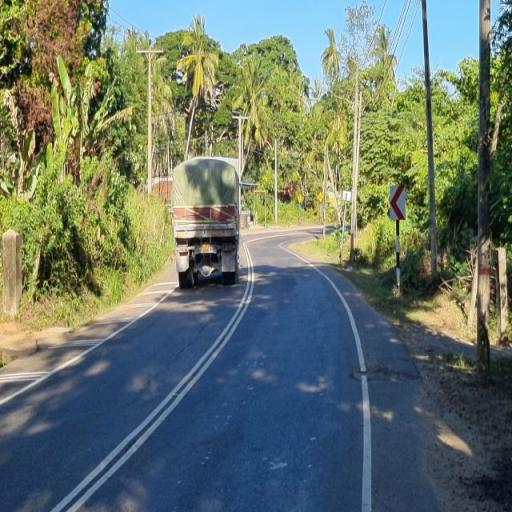double_white_line: (48, 237, 258, 511)
